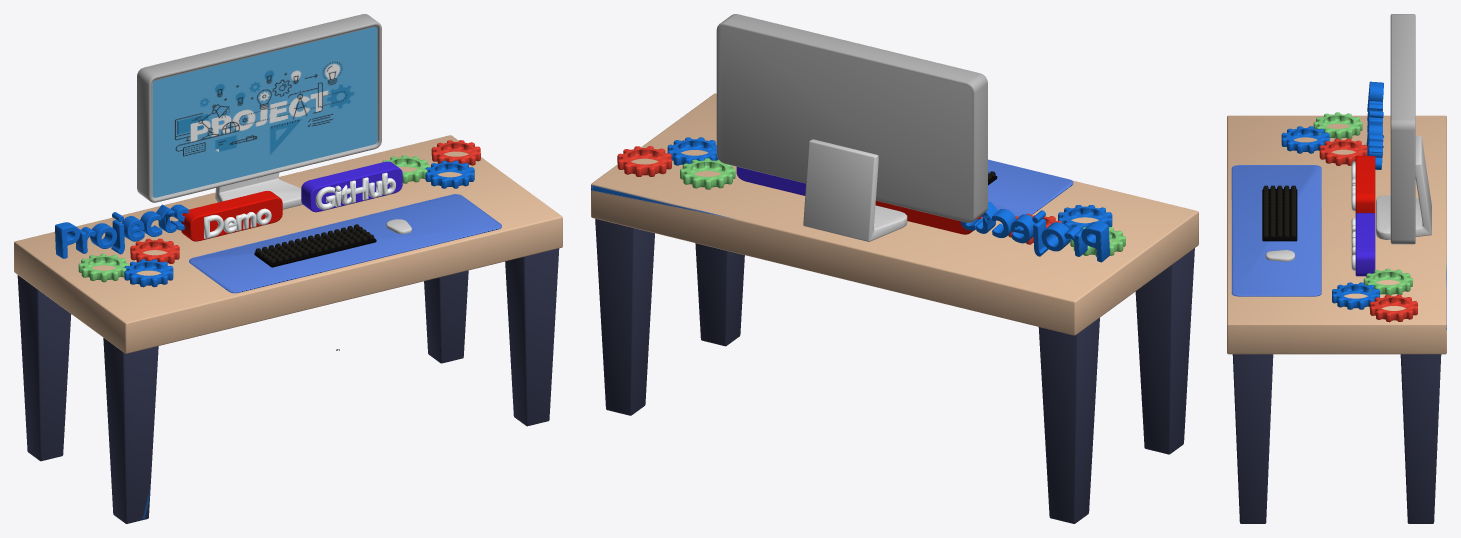
The model's file is ProjectsPc.glb.
The picture shows the model from 3 angles, left to right: view 1: azimuth 30°, elevation 25°; view 2: azimuth 150°, elevation 25°; view 3: azimuth 270°, elevation 25°; orthographic projection. The views are drawn at different scales.
Visible parts, largest first — view 1: ProjectPc.001_Baked, ProjectPc.001_Baked.001, Plane.001, Plane.002; view 2: ProjectPc.001_Baked, Plane.002, Plane.001; view 3: ProjectPc.001_Baked, Plane.001, Plane.002.
Part boxes in pixels (x1=…): ProjectPc.001_Baked: x1=14, y1=14, x2=562, y2=523; ProjectPc.001_Baked.001: x1=152, y1=27, x2=377, y2=197; Plane.001: x1=301, y1=161, x2=402, y2=212; Plane.002: x1=181, y1=190, x2=282, y2=241; ProjectPc.001_Baked: x1=591, y1=14, x2=1198, y2=523; Plane.002: x1=875, y1=200, x2=981, y2=234; Plane.001: x1=736, y1=167, x2=805, y2=195; ProjectPc.001_Baked: x1=1227, y1=14, x2=1446, y2=523; Plane.001: x1=1351, y1=213, x2=1375, y2=276; Plane.002: x1=1351, y1=155, x2=1375, y2=213.
Bounding box in the file's own units: 5.05 × 4.03 × 2.24.
Materials: 6 (2 with a texture image).
